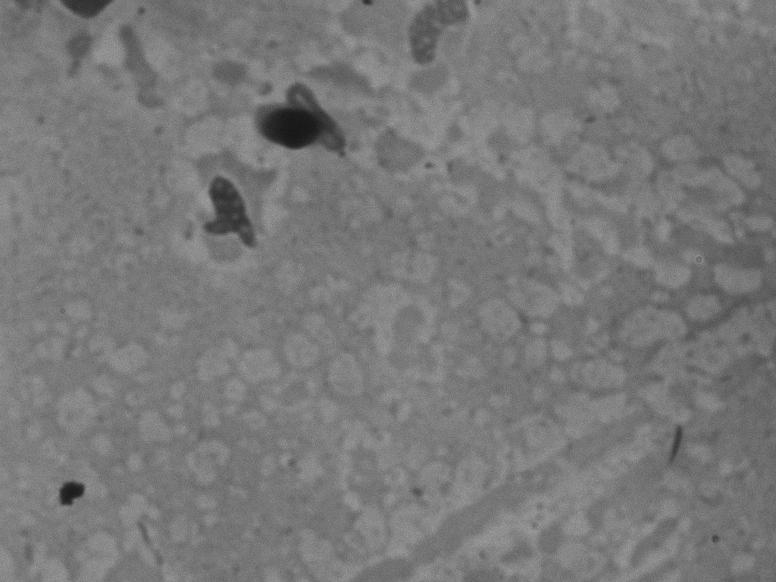Abnormal: (232, 66, 360, 167)
